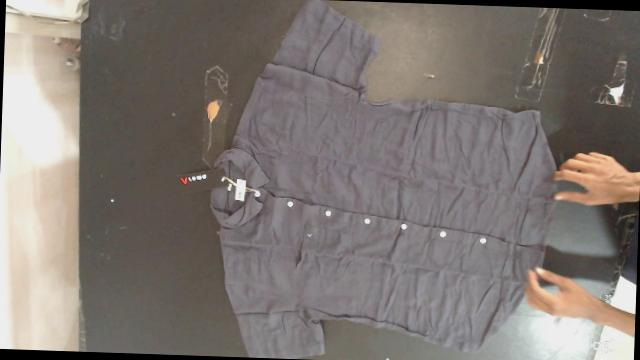new-garment: (211, 0, 555, 359)
